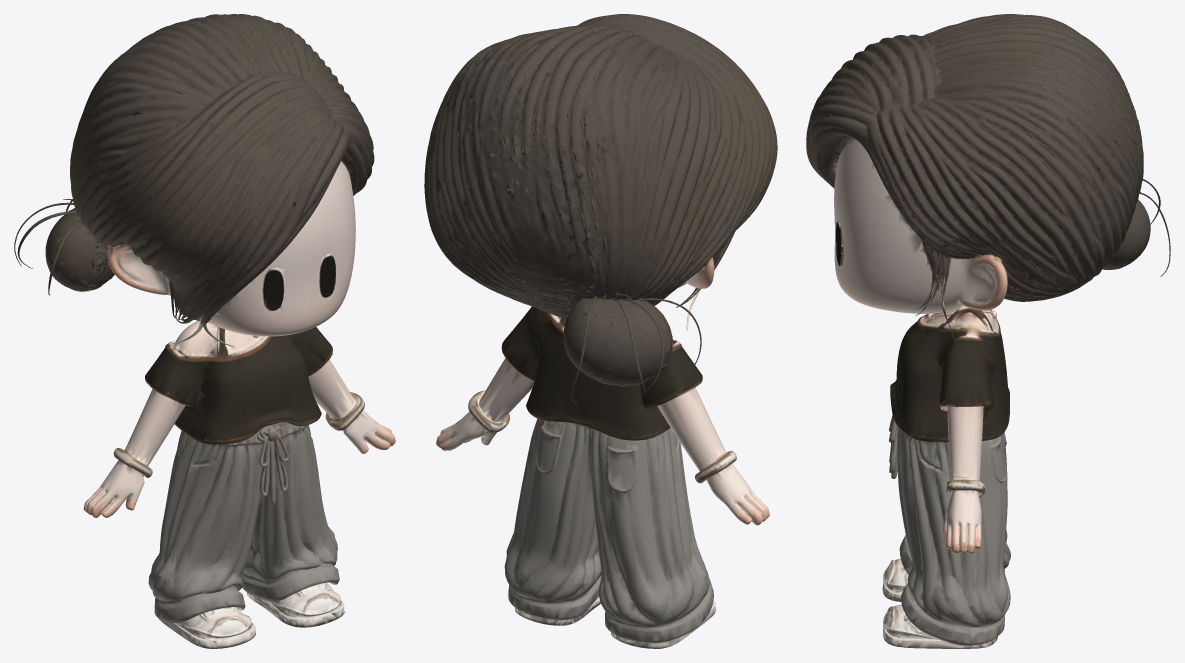
Rendered from pangbobo-single.glb.
The picture shows the model from 3 angles, left to right: view 1: azimuth 30°, elevation 25°; view 2: azimuth 150°, elevation 25°; view 3: azimuth 270°, elevation 25°; orthographic projection. The views are drawn at different scales.
Parts seen in each view (by area): view 1: node_0; view 2: node_0; view 3: node_0.
Part boxes in pixels (box(x1,y1,x2,y2)): node_0: box(14, 14, 395, 648); node_0: box(424, 14, 777, 648); node_0: box(806, 14, 1170, 648).
Size of the model in its own units: 0.6408 by 1.13 by 0.6375.
1 material, 1 textured.
